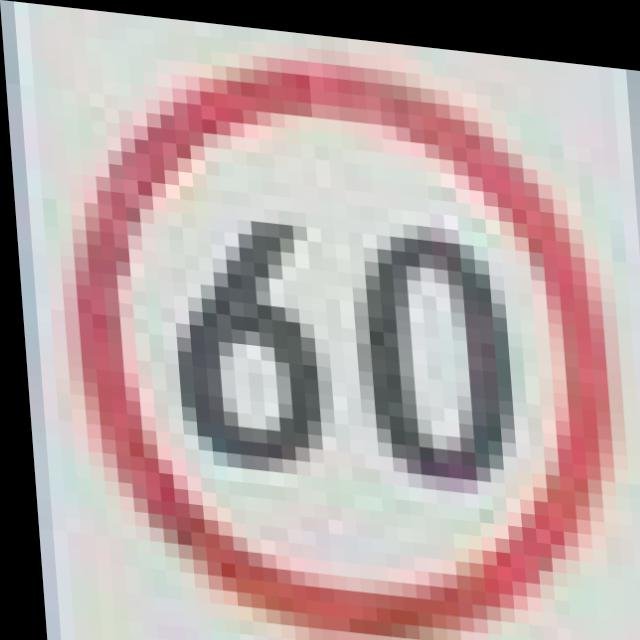SPEED_LIMIT_60: (47, 19, 638, 640)
